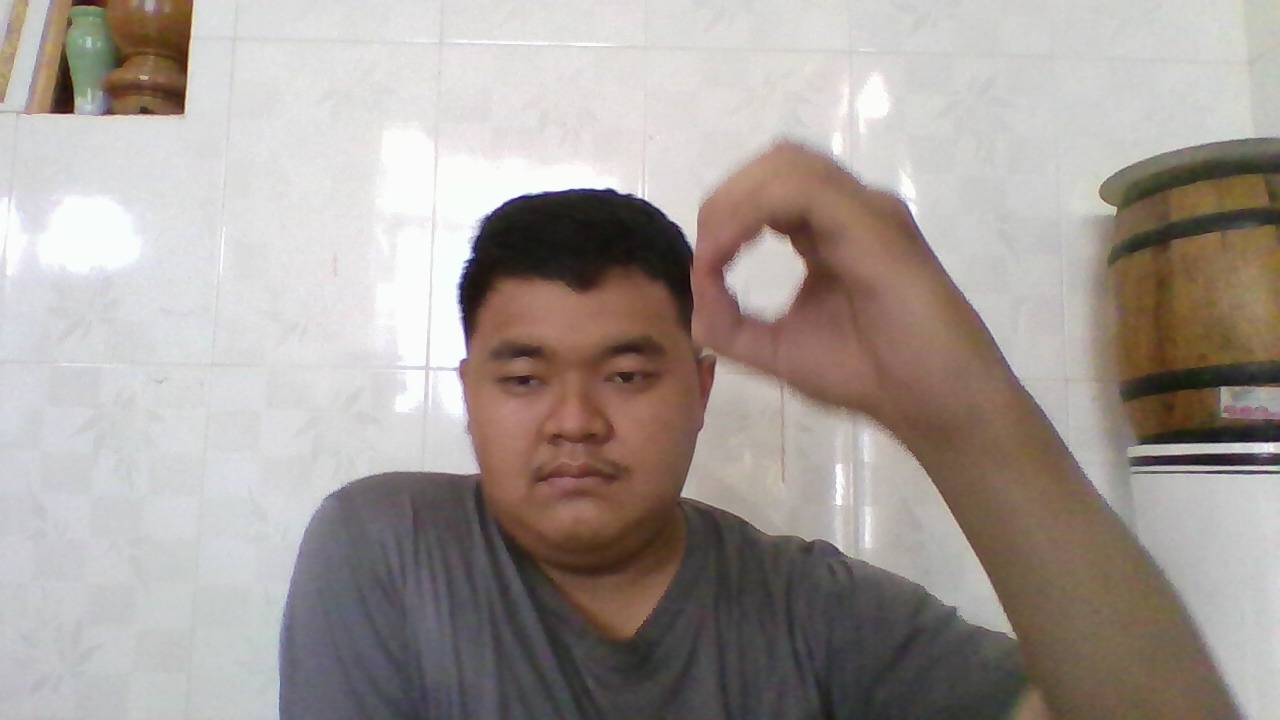O: (688, 145, 942, 421)
